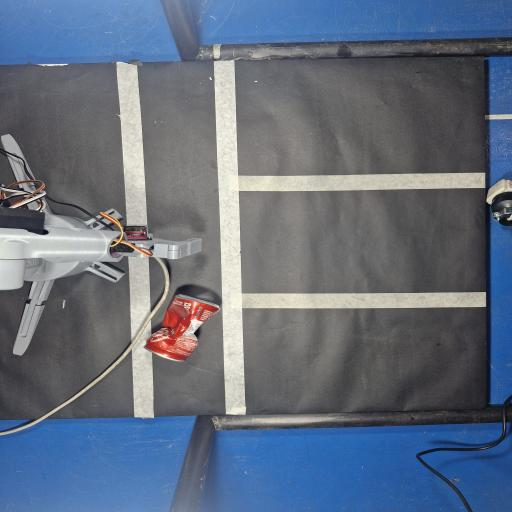lata_defectuoso: (145, 295, 219, 361)
